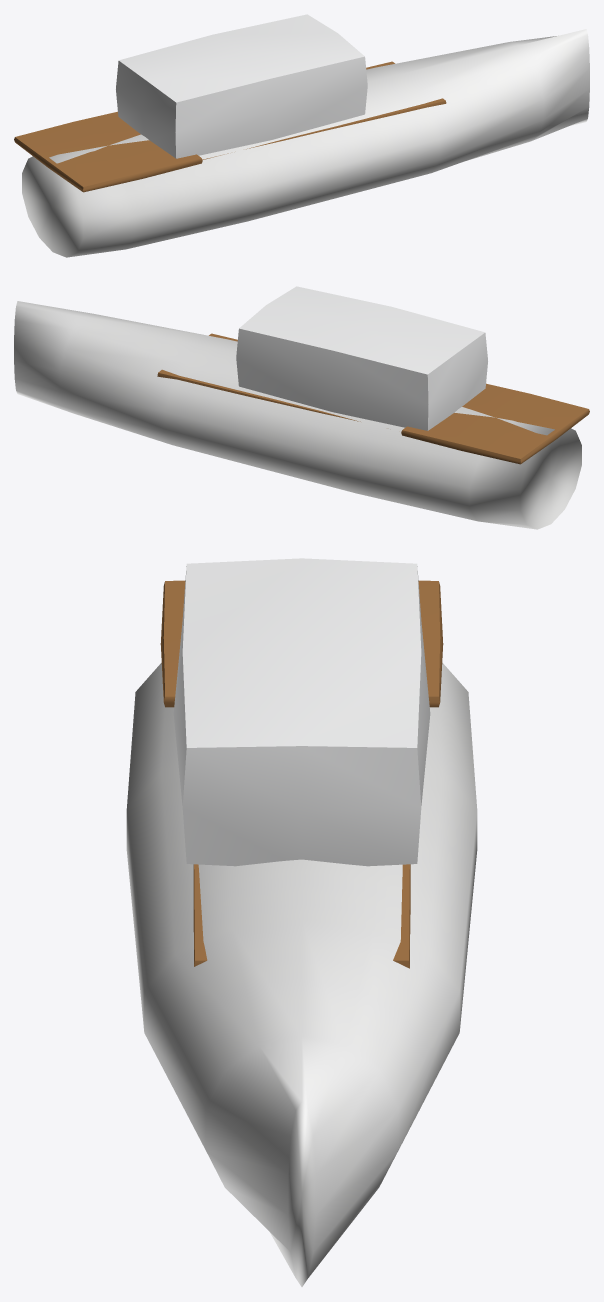
File: Boat_L1.obj
3 renders of one model, top to bottom at view 1: azimuth 30°, elevation 25°; view 2: azimuth 150°, elevation 25°; view 3: azimuth 270°, elevation 25°, orthographic. The views are drawn at different scales.
Visible parts, largest first — view 1: Boat_L1; view 2: Boat_L1; view 3: Boat_L1.
Part boxes in pixels (x1,y1,x2,y2): Boat_L1: [14, 14, 589, 257]; Boat_L1: [14, 286, 589, 529]; Boat_L1: [126, 558, 477, 1286].
Bounding box in the file's own units: 2.43 × 0.66 × 0.6824.
1 material, 1 textured.
